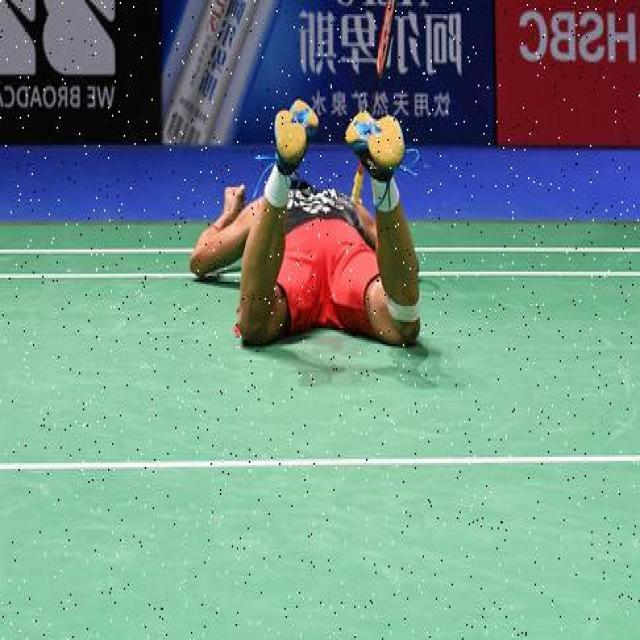fall: (208, 120, 429, 357)
